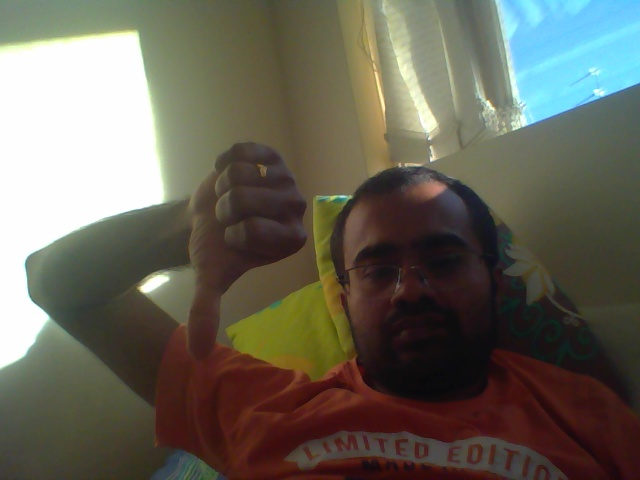ThumbsDown: (186, 140, 309, 367)
